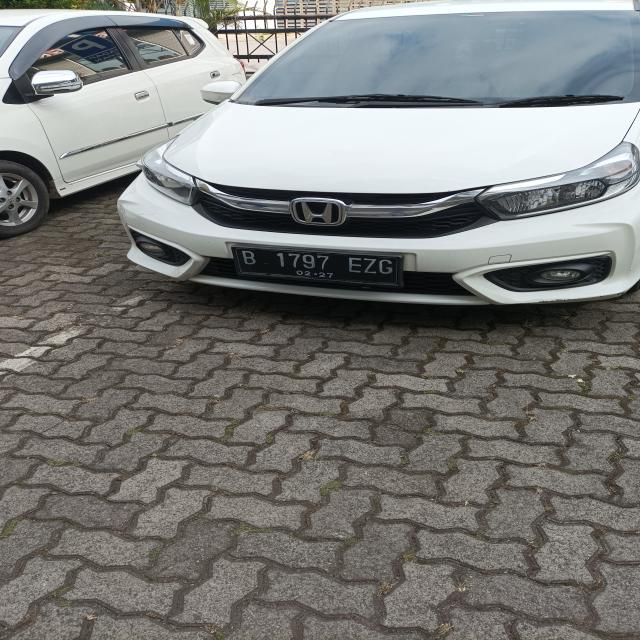license-plat: (219, 238, 417, 299)
